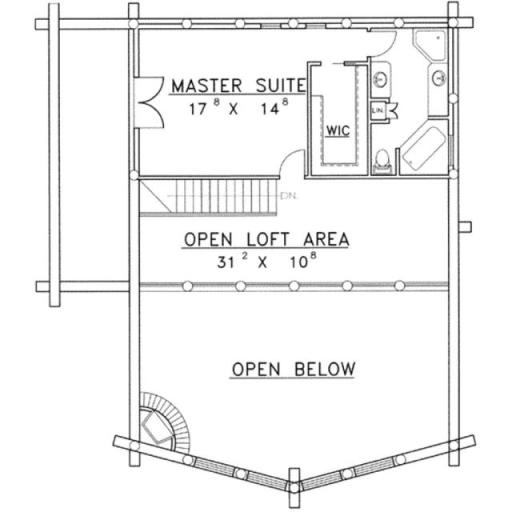bathroom: (368, 32, 460, 178)
hall: (139, 31, 309, 179)
